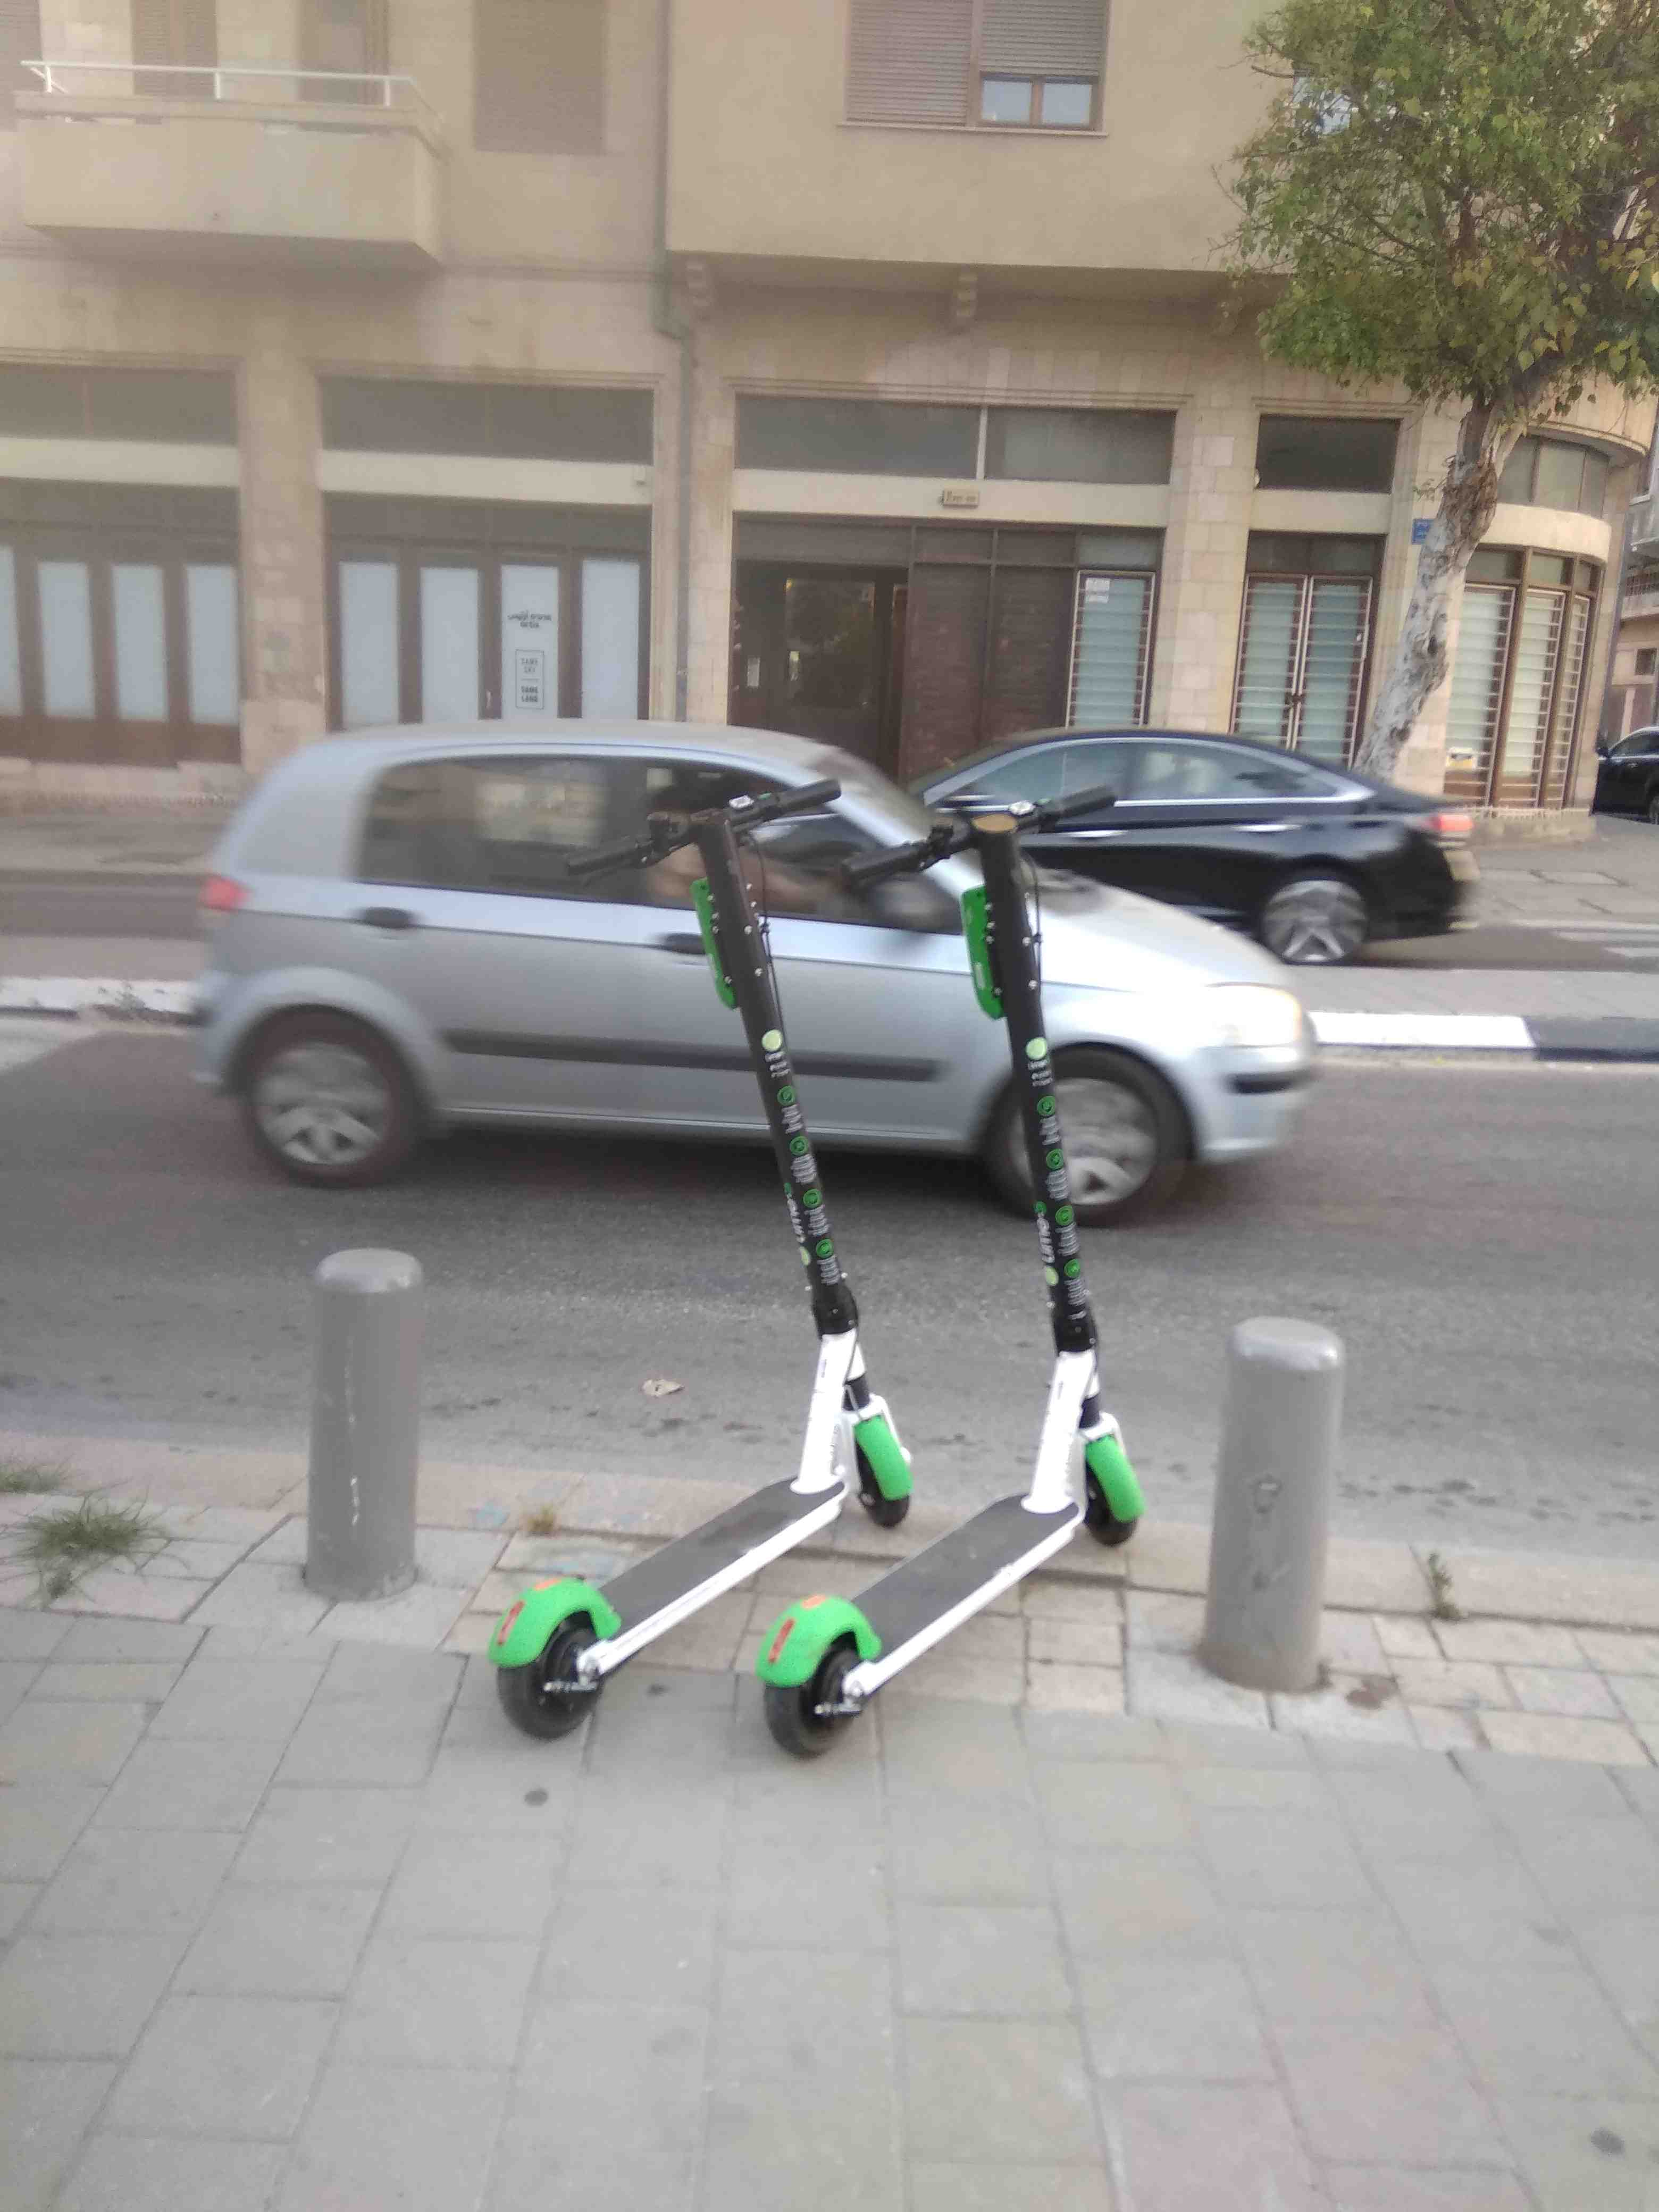too close: (976, 1392, 1199, 1595), (775, 1366, 962, 1554)
